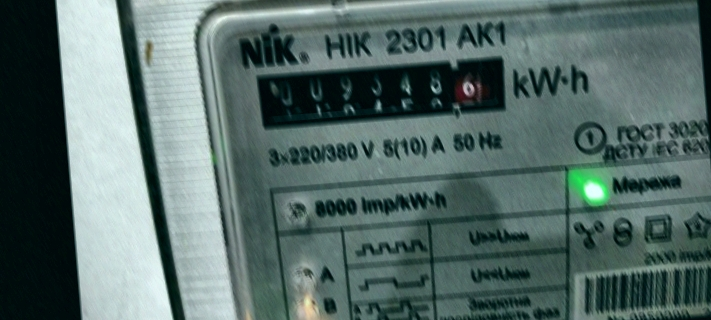0: (278, 80, 296, 107), (309, 74, 325, 101)
3: (370, 70, 386, 96)
4: (397, 66, 417, 97)
6: (460, 69, 479, 99)
8: (429, 66, 446, 96)
9: (340, 75, 356, 103)
screen: (240, 41, 523, 142)
